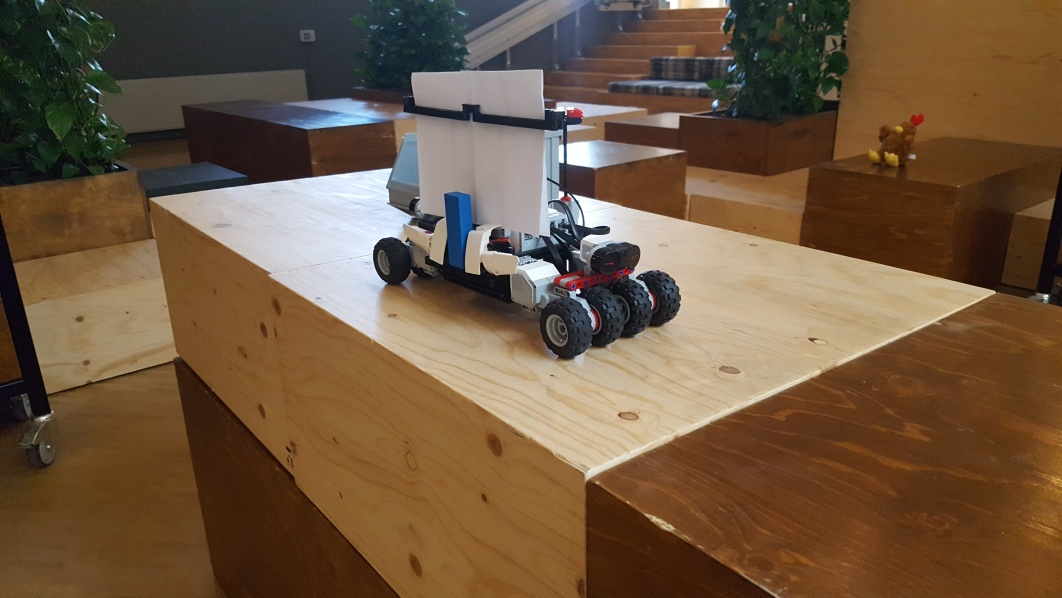car: (374, 68, 685, 359)
chicken: (867, 111, 927, 166)
